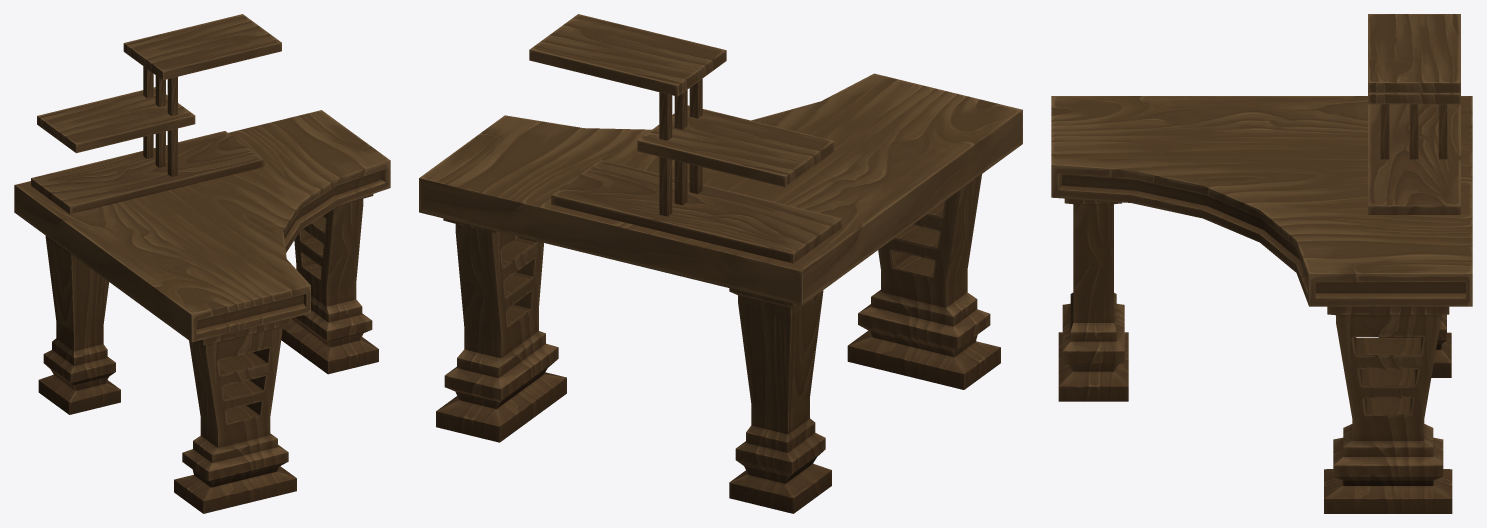
File: Alchemist_table.FBX
3 views of the same model, side by side, from view 1: azimuth 30°, elevation 25°; view 2: azimuth 150°, elevation 25°; view 3: azimuth 270°, elevation 25° (orthographic). The views are drawn at different scales.
Parts seen in each view (by area): view 1: Alchemist_table; view 2: Alchemist_table; view 3: Alchemist_table.
Part boxes in pixels (<box>): Alchemist_table: <box>14,14,390,513</box>; Alchemist_table: <box>419,14,1022,513</box>; Alchemist_table: <box>1051,14,1472,513</box>.
Bounding box in the file's own units: 1400 × 1414 × 1400.
